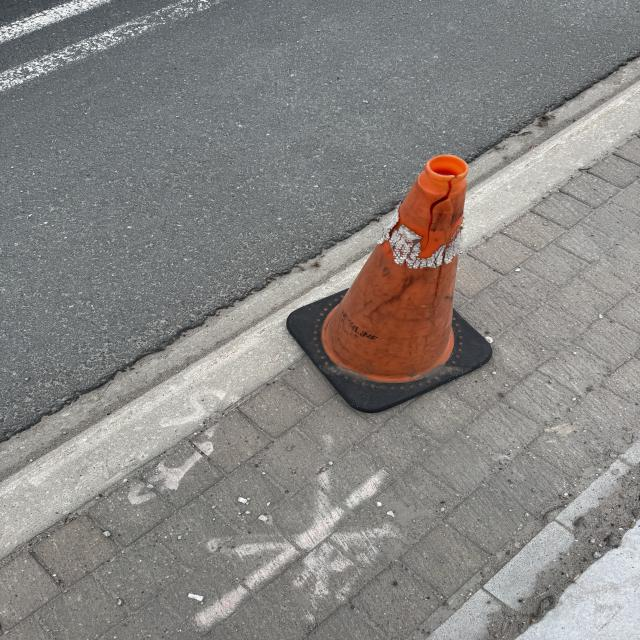Traffic Cone: (281, 154, 501, 412)
